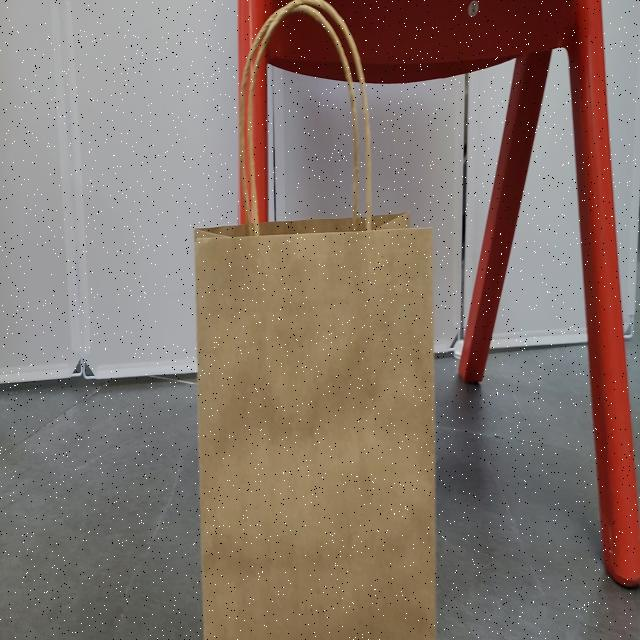paper bag: (192, 0, 442, 640)
